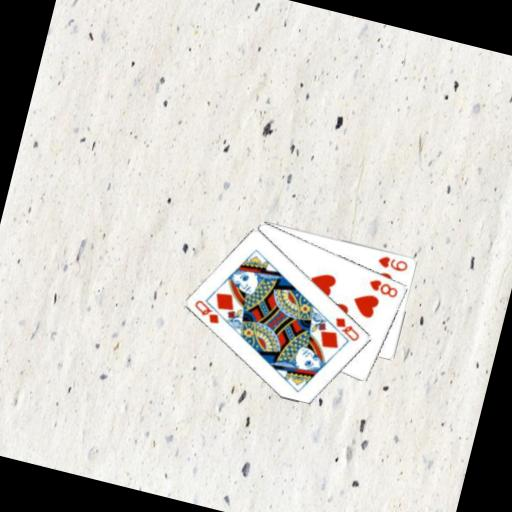8H: (365, 274, 402, 300)
9H: (374, 251, 411, 274)
QD: (188, 296, 225, 327), (328, 313, 364, 344)
